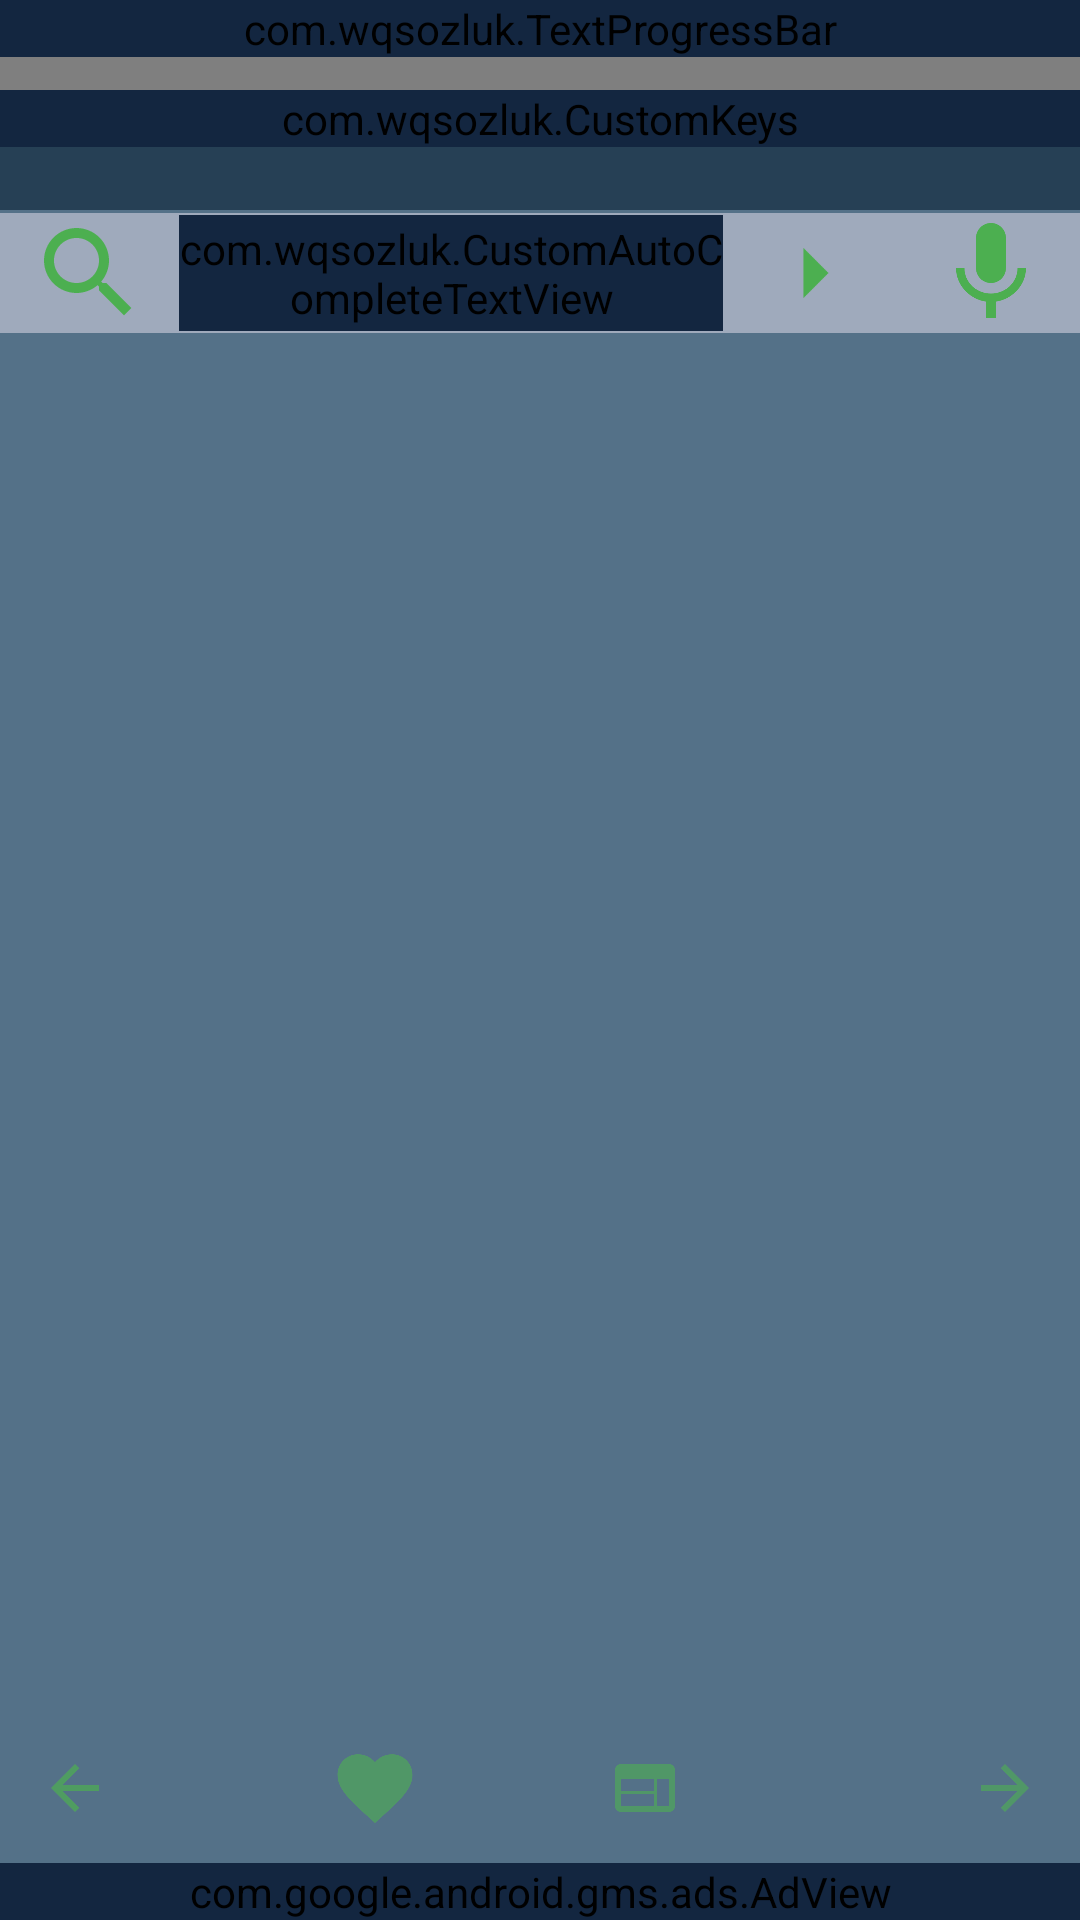

Point at icon controls on the screen. Image size 1080w x 1920h, points as (x=x, y=y).
arrowback: (x=75, y=1788)
arrowforward: (x=1004, y=1788)
favoruite: (x=375, y=1788)
mic: (x=991, y=273)
onweb: (x=645, y=1788)
search: (x=88, y=273)
